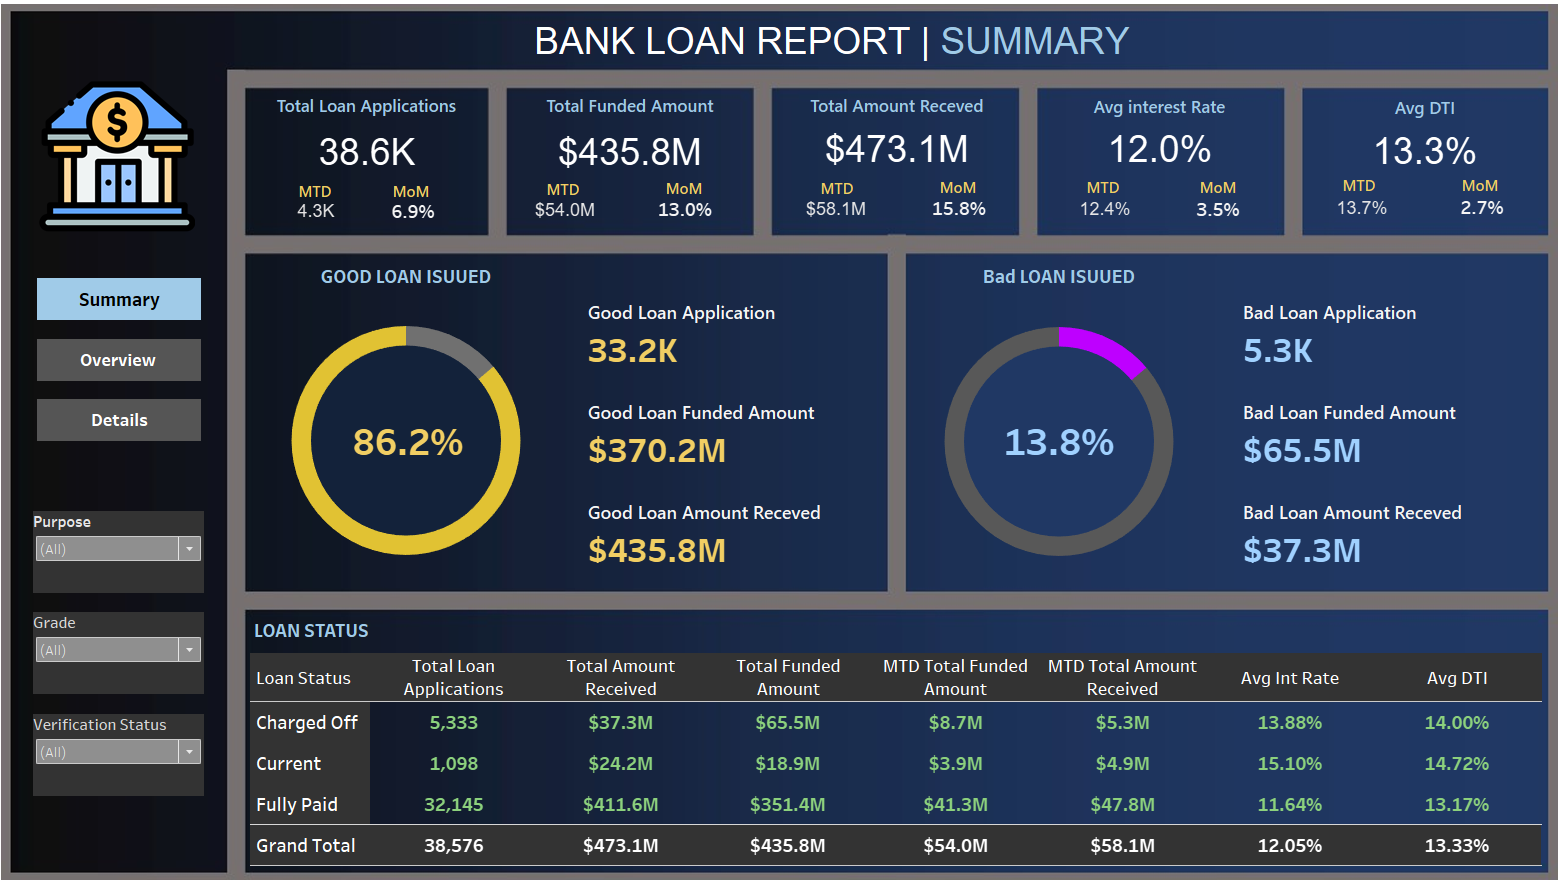

Layout of this report page (visuals, bound fields, positions):
{"tool":"tableau","page":{"name":"SUMMARY","canvas":[1600,900],"ordinal":2},"visuals":[{"type":"image","param":"Image/Tableau Background 1.jpg","box":[8,8,1584,884]},{"type":"text","box":[551,21,614,58]},{"type":"image","param":"Image/bank.png","box":[59,86,158,156]},{"type":"worksheet","title":"Total Loan Applications","mark":"Automatic","box":[265,98,243,87]},{"type":"worksheet","title":"Total Funded Amount","mark":"Automatic","box":[526,98,248,88]},{"type":"worksheet","title":"Total Amount Receved","mark":"Automatic","box":[793,98,248,82]},{"type":"worksheet","title":"Avg interest Rate","mark":"Automatic","box":[1056,99,247,80]},{"type":"worksheet","title":"Avg DTI","mark":"Automatic","box":[1322,100,246,82]},{"type":"text","box":[1357,178,44,30]},{"type":"text","box":[1478,178,44,30]},{"type":"text","box":[956,180,44,30]},{"type":"text","box":[1101,180,44,30]},{"type":"text","box":[1216,180,44,30]},{"type":"text","box":[682,181,44,30]},{"type":"text","box":[835,181,44,30]},{"type":"text","box":[561,182,44,30]},{"type":"text","box":[313,184,44,30]},{"type":"text","box":[409,184,44,30]},{"type":"worksheet","title":"MTD Total Loan Applications","mark":"Automatic","box":[296,197,79,44]},{"type":"worksheet","title":"MoM Total Amount Receved","mark":"Automatic","box":[940,199,77,34]},{"type":"worksheet","title":"MTD Avg DTI","mark":"Automatic","box":[1347,199,69,34]},{"type":"worksheet","title":"MoM Avg DTI","mark":"Automatic","box":[1468,200,68,29]},{"type":"worksheet","title":"MoM Loan Applications","mark":"Automatic","box":[396,201,73,36]},{"type":"worksheet","title":"MoM Total Funded Amount","mark":"Automatic","box":[668,201,73,32]},{"type":"worksheet","title":"MTD Total Amount Receved","mark":"Automatic","box":[818,201,76,31]},{"type":"worksheet","title":"MTD Avg Int Rate","mark":"Automatic","box":[1094,201,62,32]},{"type":"worksheet","title":"MoM Avg Int Rate","mark":"Automatic","box":[1202,201,71,32]},{"type":"worksheet","title":"MTD Total Funded Amount","mark":"Automatic","box":[541,202,88,31]},{"type":"worksheet","title":"Good Loan Issued","mark":"Pie","rows":["Calculation_45598953332690945","Calculation_45598953332690945"],"box":[276,267,300,323]},{"type":"worksheet","title":"Bad Loan Issued","mark":"Pie","rows":["Calculation_45598953332690945","Calculation_45598953332690945"],"box":[929,267,300,325]},{"type":"dashboard-object","box":[57,286,164,42]},{"type":"worksheet","title":"Good Loan Application","mark":"Automatic","box":[600,300,300,75]},{"type":"worksheet","title":"Bad Loan Application","mark":"Automatic","box":[1255,300,300,75]},{"type":"dashboard-object","box":[57,347,164,42]},{"type":"worksheet","title":"Good Loan Application %","mark":"Automatic","box":[353,400,150,95]},{"type":"worksheet","title":"Good Loan Funded Amount","mark":"Automatic","box":[600,400,300,75]},{"type":"worksheet","title":"Bad Loan %","mark":"Automatic","box":[1004,400,150,95]},{"type":"worksheet","title":"Bad Loan Funded Amount","mark":"Automatic","box":[1255,400,300,75]},{"type":"dashboard-object","box":[57,407,164,42]},{"type":"worksheet","title":"Good Loan Amount Receved","mark":"Automatic","box":[600,500,300,75]},{"type":"worksheet","title":"Bad Loan Amount Receved","mark":"Automatic","box":[1255,500,300,75]},{"type":"filter","title":"Good Loan Issued","param":"[federated.0jnou7y1eobgyh1b79fc714me99y].[none:purpose:nk]","box":[53,519,171,82]},{"type":"filter","title":"Good Loan Issued","param":"[federated.0jnou7y1eobgyh1b79fc714me99y].[none:grade:nk]","box":[53,620,171,82]},{"type":"worksheet","title":"LOAN STATUS","mark":"Automatic","rows":["loan_status"],"box":[270,621,1292,253]},{"type":"filter","title":"Good Loan Issued","param":"[federated.0jnou7y1eobgyh1b79fc714me99y].[none:verification_status:nk]","box":[53,722,171,82]}]}

Visuals, with their boxes in screenshot pixels (x1, y1, x2, y2), scaled from the page's 1600x900 canvas onto the 1560x881 screenshot:
image: 8:8:1552:873
text: 537:21:1136:77
image: 58:84:212:237
"Total Loan Applications" worksheet: 258:96:495:181
"Total Funded Amount" worksheet: 513:96:755:182
"Total Amount Receved" worksheet: 773:96:1015:176
"Avg interest Rate" worksheet: 1030:97:1270:175
"Avg DTI" worksheet: 1289:98:1529:178
text: 1323:174:1366:204
text: 1441:174:1484:204
text: 932:176:975:206
text: 1073:176:1116:206
text: 1186:176:1228:206
text: 665:177:708:207
text: 814:177:857:207
text: 547:178:590:208
text: 305:180:348:209
text: 399:180:442:209
"MTD Total Loan Applications" worksheet: 289:193:366:236
"MoM Total Amount Receved" worksheet: 916:195:992:228
"MTD Avg DTI" worksheet: 1313:195:1381:228
"MoM Avg DTI" worksheet: 1431:196:1498:224
"MoM Loan Applications" worksheet: 386:197:457:232
"MoM Total Funded Amount" worksheet: 651:197:722:228
"MTD Total Amount Receved" worksheet: 798:197:872:227
"MTD Avg Int Rate" worksheet: 1067:197:1127:228
"MoM Avg Int Rate" worksheet: 1172:197:1241:228
"MTD Total Funded Amount" worksheet: 527:198:613:228
"Good Loan Issued" worksheet (Pie marks): 269:261:562:578
"Bad Loan Issued" worksheet (Pie marks): 906:261:1198:580
dashboard-object: 56:280:215:321
"Good Loan Application" worksheet: 585:294:878:367
"Bad Loan Application" worksheet: 1224:294:1516:367
dashboard-object: 56:340:215:381
"Good Loan Application %" worksheet: 344:392:490:485
"Good Loan Funded Amount" worksheet: 585:392:878:465
"Bad Loan %" worksheet: 979:392:1125:485
"Bad Loan Funded Amount" worksheet: 1224:392:1516:465
dashboard-object: 56:398:215:440
"Good Loan Amount Receved" worksheet: 585:489:878:563
"Bad Loan Amount Receved" worksheet: 1224:489:1516:563
"Good Loan Issued" filter: 52:508:218:588
"Good Loan Issued" filter: 52:607:218:687
"LOAN STATUS" worksheet: 263:608:1523:856
"Good Loan Issued" filter: 52:707:218:787
